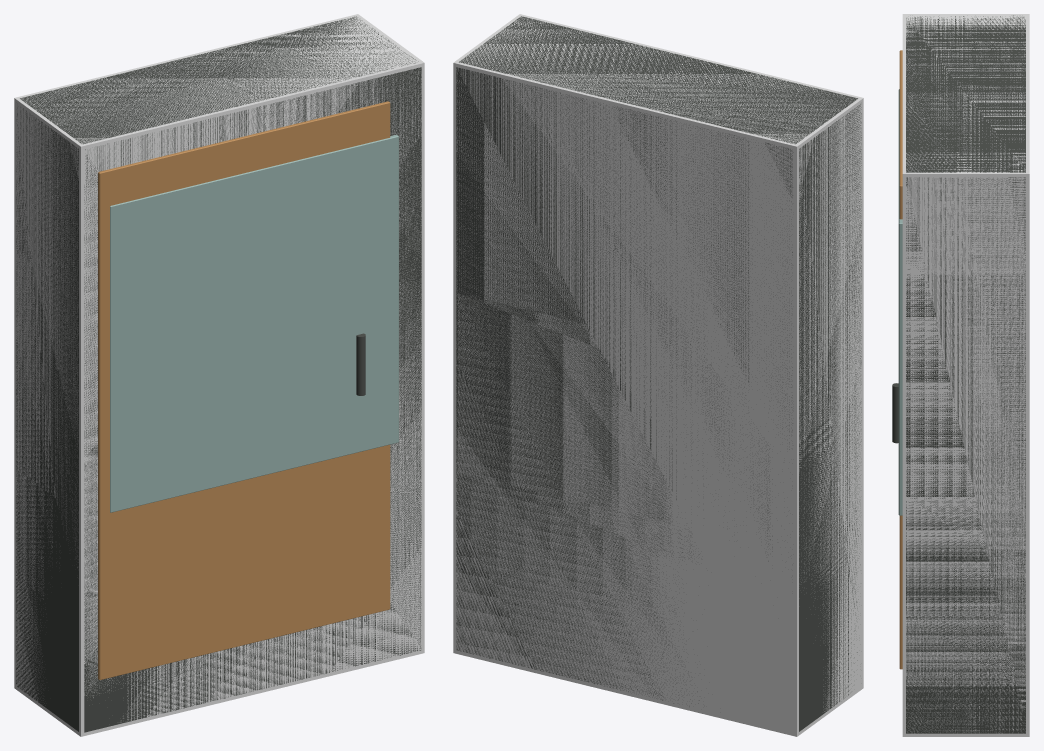
File: trophy-case_commercial.glb
The picture shows the model from 3 angles, left to right: view 1: azimuth 30°, elevation 25°; view 2: azimuth 150°, elevation 25°; view 3: azimuth 270°, elevation 25°; orthographic projection. The views are drawn at different scales.
Parts seen in each view (by area): view 1: COL_trophy-case, MESH_CabinetCarcass, MESH_DisplayGlass, MESH_Door_01; view 2: COL_trophy-case, MESH_CabinetCarcass; view 3: COL_trophy-case, MESH_CabinetCarcass, MESH_DisplayGlass, MESH_Door_01, MESH_Handle.
Boxes of the visible parts, x1,y1,x2,y2 form: COL_trophy-case: (14,14,424,736); MESH_CabinetCarcass: (16,16,421,732); MESH_DisplayGlass: (110,134,398,512); MESH_Door_01: (98,101,390,680); COL_trophy-case: (453,14,863,736); MESH_CabinetCarcass: (456,16,861,731); COL_trophy-case: (902,14,1029,736); MESH_CabinetCarcass: (906,15,1025,733); MESH_DisplayGlass: (898,89,902,515); MESH_Door_01: (899,50,902,669); MESH_Handle: (892,383,898,443).
Size of the model in its own units: 1.25 by 2.05 by 0.4539.
